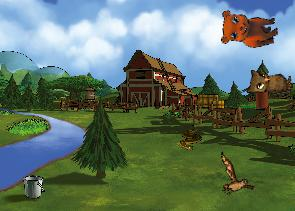bear: (217, 3, 280, 51)
eagle: (204, 151, 262, 205)
owl: (243, 62, 294, 98)
